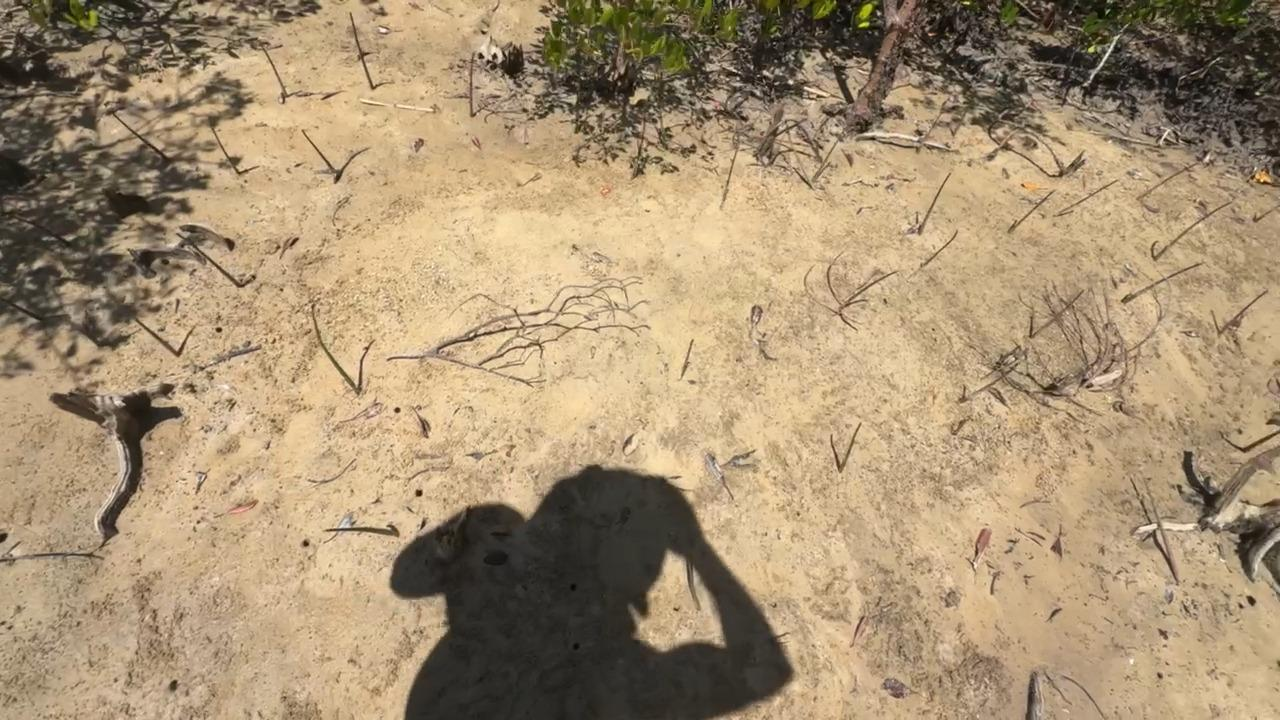Tree: (1151, 199, 1233, 261), (310, 302, 361, 393), (1143, 473, 1181, 584), (176, 230, 244, 287), (1121, 259, 1206, 304), (110, 107, 169, 162), (1028, 289, 1085, 338), (1136, 162, 1202, 204), (959, 360, 1023, 403), (1054, 178, 1122, 217), (915, 171, 953, 234), (839, 270, 901, 308), (1219, 289, 1269, 335), (1007, 188, 1058, 233), (347, 12, 375, 90), (10, 210, 70, 245), (208, 117, 243, 174), (134, 314, 177, 358), (256, 42, 291, 96), (299, 128, 340, 173), (918, 228, 959, 269), (0, 288, 44, 323), (717, 140, 739, 210), (810, 135, 839, 181), (1, 553, 106, 565), (916, 111, 942, 154), (839, 422, 861, 472), (1242, 429, 1280, 452), (677, 338, 695, 381), (952, 103, 971, 136), (469, 51, 476, 118), (1254, 205, 1279, 221)
